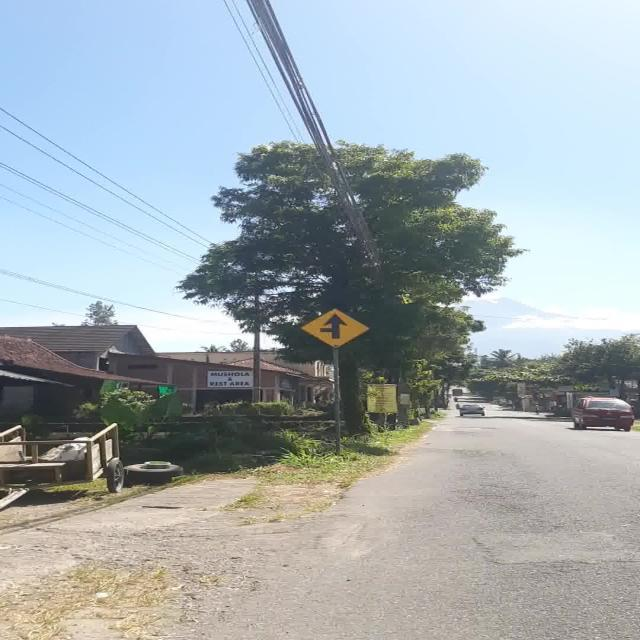Persimpangan 3 Prioritas Kiri: (298, 308, 369, 349)
